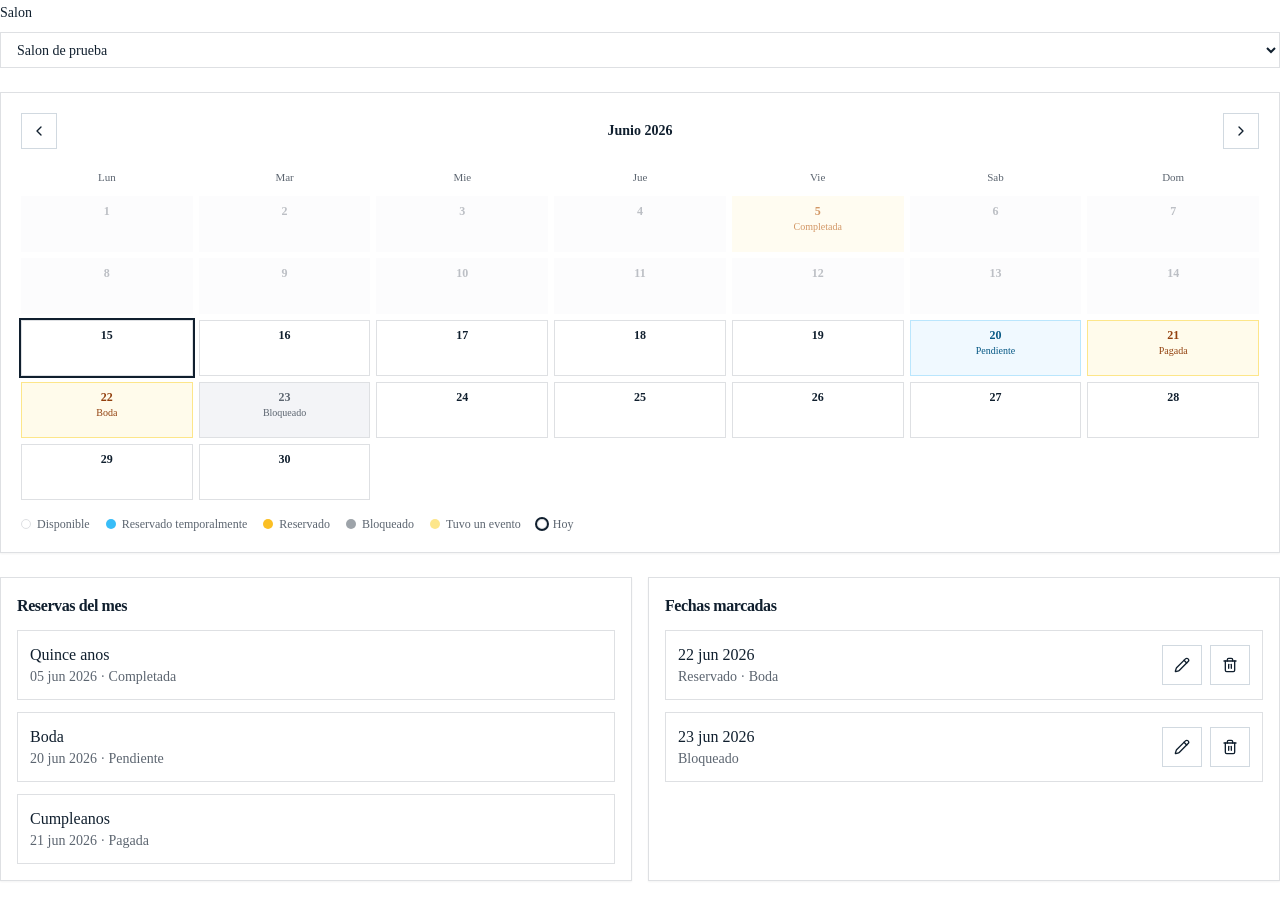
Test: OwnerCalendar - formulario "Agregar al calendario" › al elegir "Reservado" aparece el dropdown de tipo de evento, con las opciones del local
Click the button named "25 de junio": x=640, y=410 [554,382,726,438]
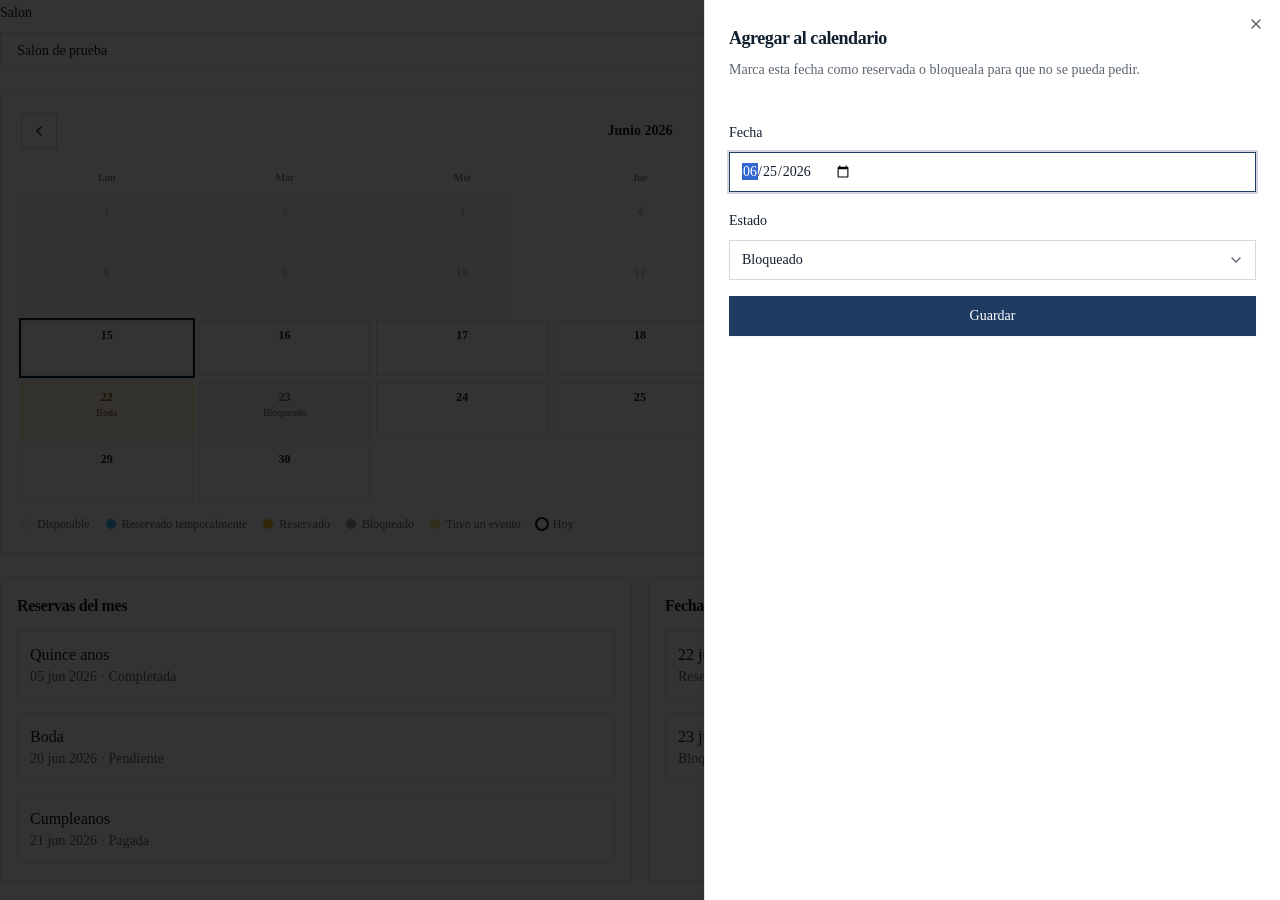
Select "Reservado" in the dropdown labelled "Estado": x=992, y=260 [729,240,1256,280]
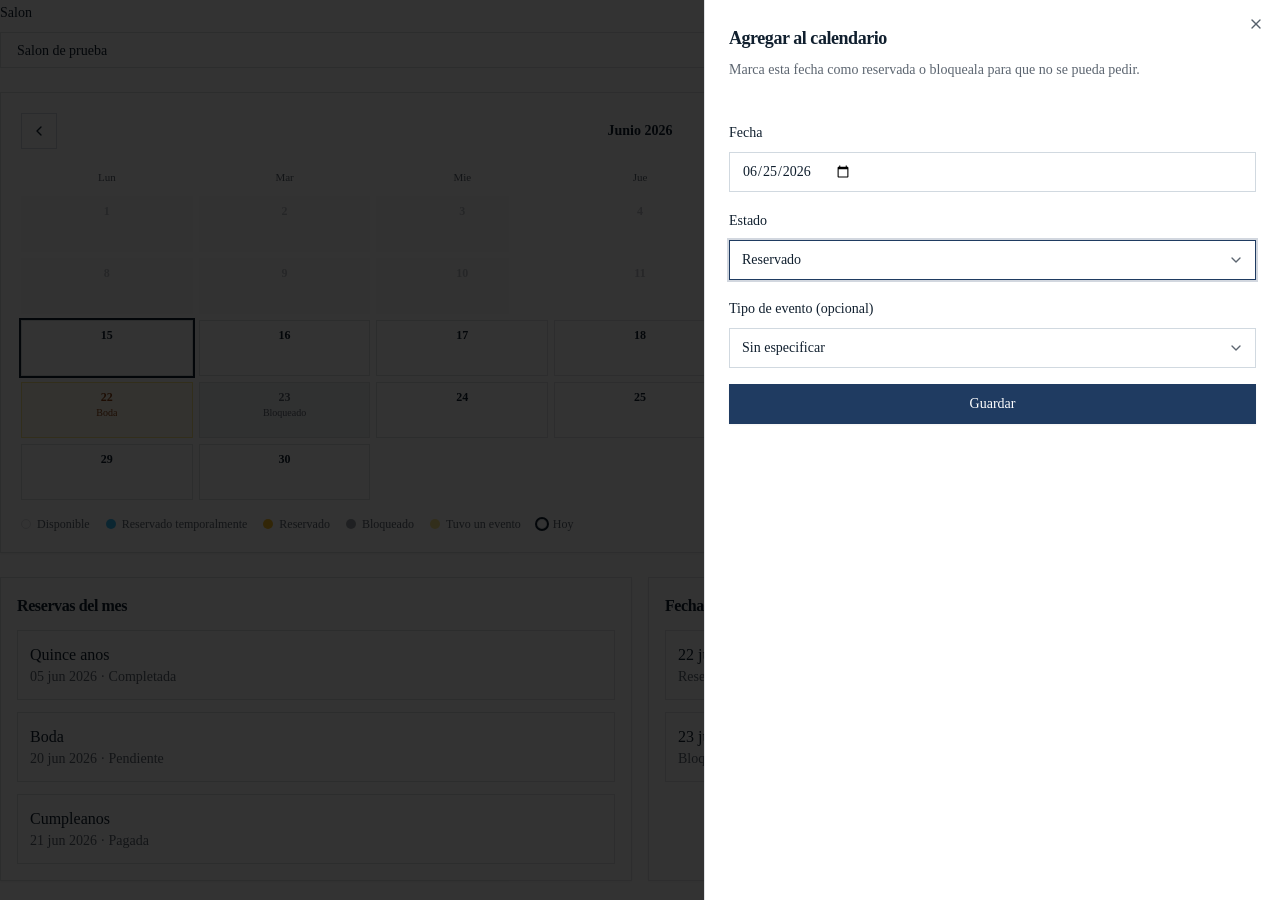
Result: the dropdown labelled "Tipo de evento (opcional)" is shown at [729,328,1256,368]
